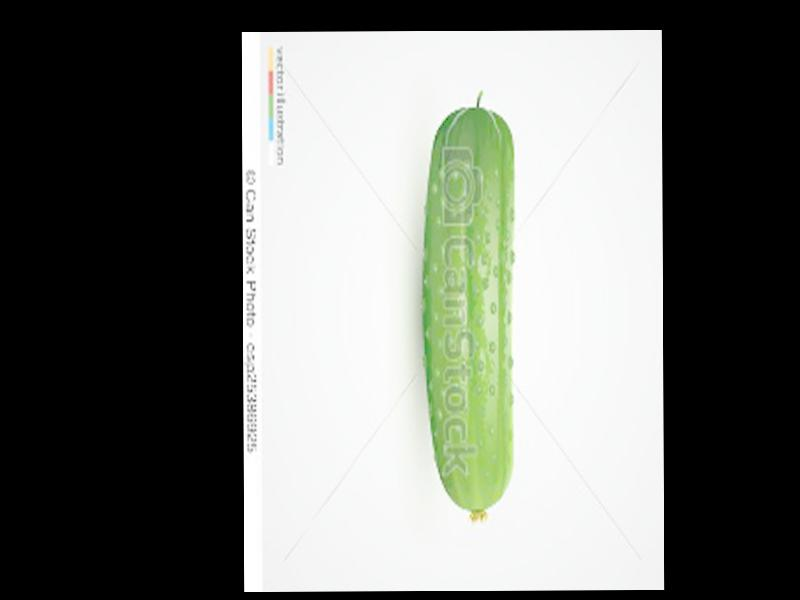Cucumber: (422, 90, 517, 524)
